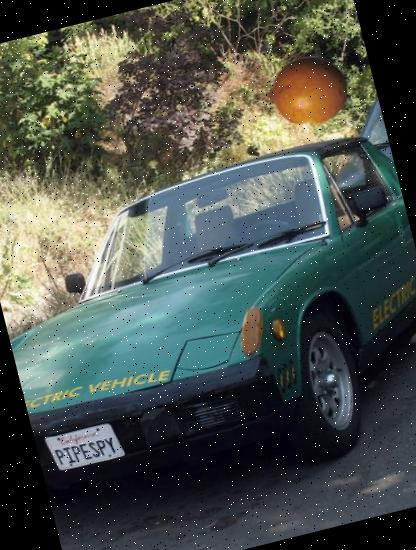Granadilla: (243, 34, 361, 152)
